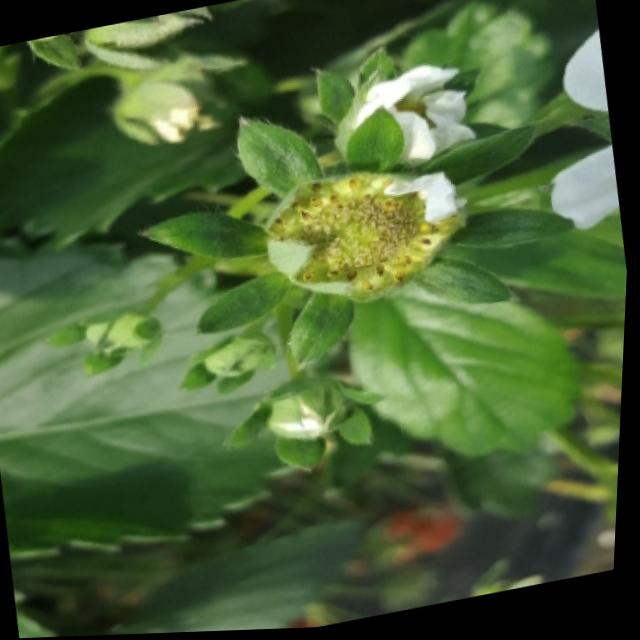Blossom Blight: (270, 175, 462, 305)
